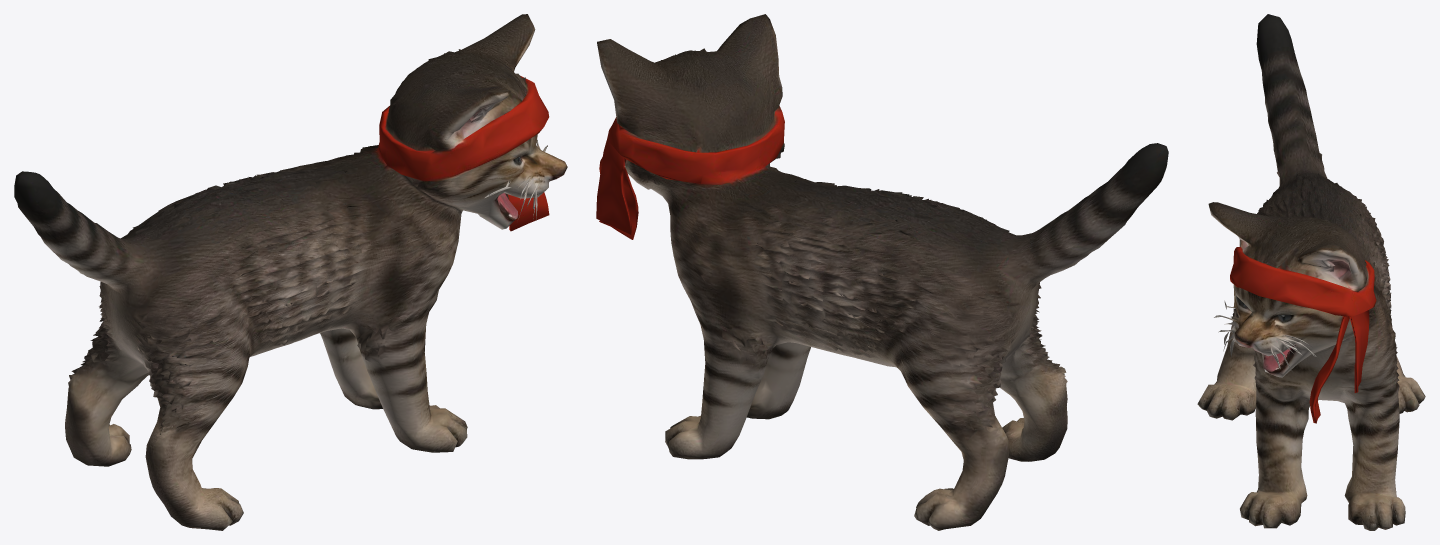
File: red-kitten-crew.glb
The picture shows the model from 3 angles, left to right: view 1: azimuth 30°, elevation 25°; view 2: azimuth 150°, elevation 25°; view 3: azimuth 270°, elevation 25°; orthographic projection. The views are drawn at different scales.
Parts seen in each view (by area): view 1: tripo_node_9be49136-dcac-4256-8b96-fe0e229e891a; view 2: tripo_node_9be49136-dcac-4256-8b96-fe0e229e891a; view 3: tripo_node_9be49136-dcac-4256-8b96-fe0e229e891a.
Boxes of the visible parts, x1=… form: tripo_node_9be49136-dcac-4256-8b96-fe0e229e891a: x1=14, y1=14, x2=567, y2=530; tripo_node_9be49136-dcac-4256-8b96-fe0e229e891a: x1=596, y1=14, x2=1168, y2=530; tripo_node_9be49136-dcac-4256-8b96-fe0e229e891a: x1=1197, y1=14, x2=1425, y2=530.
Bounding box in the file's own units: 1.57 × 1 × 0.6301.
1 material, 1 textured.
